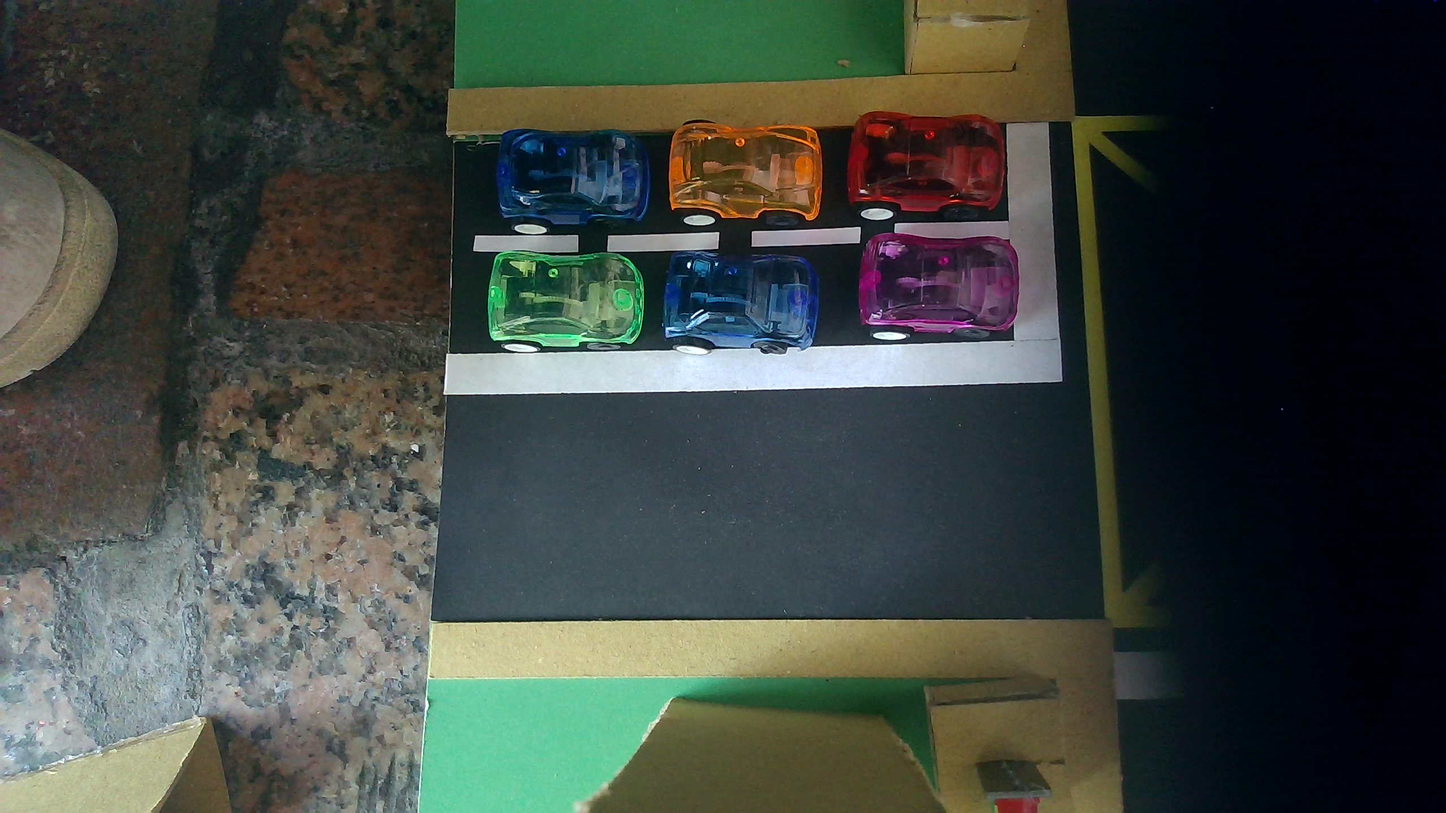Mobil biru: (495, 129, 651, 234), (663, 251, 821, 354)
Mobil hijau: (486, 251, 644, 352)
Mobil merah: (847, 111, 1006, 221)
Mobil orange: (668, 121, 823, 227)
Mobil ungu: (859, 233, 1020, 340)
